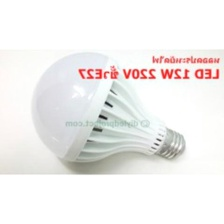light_bulb: (27, 50, 187, 168)
